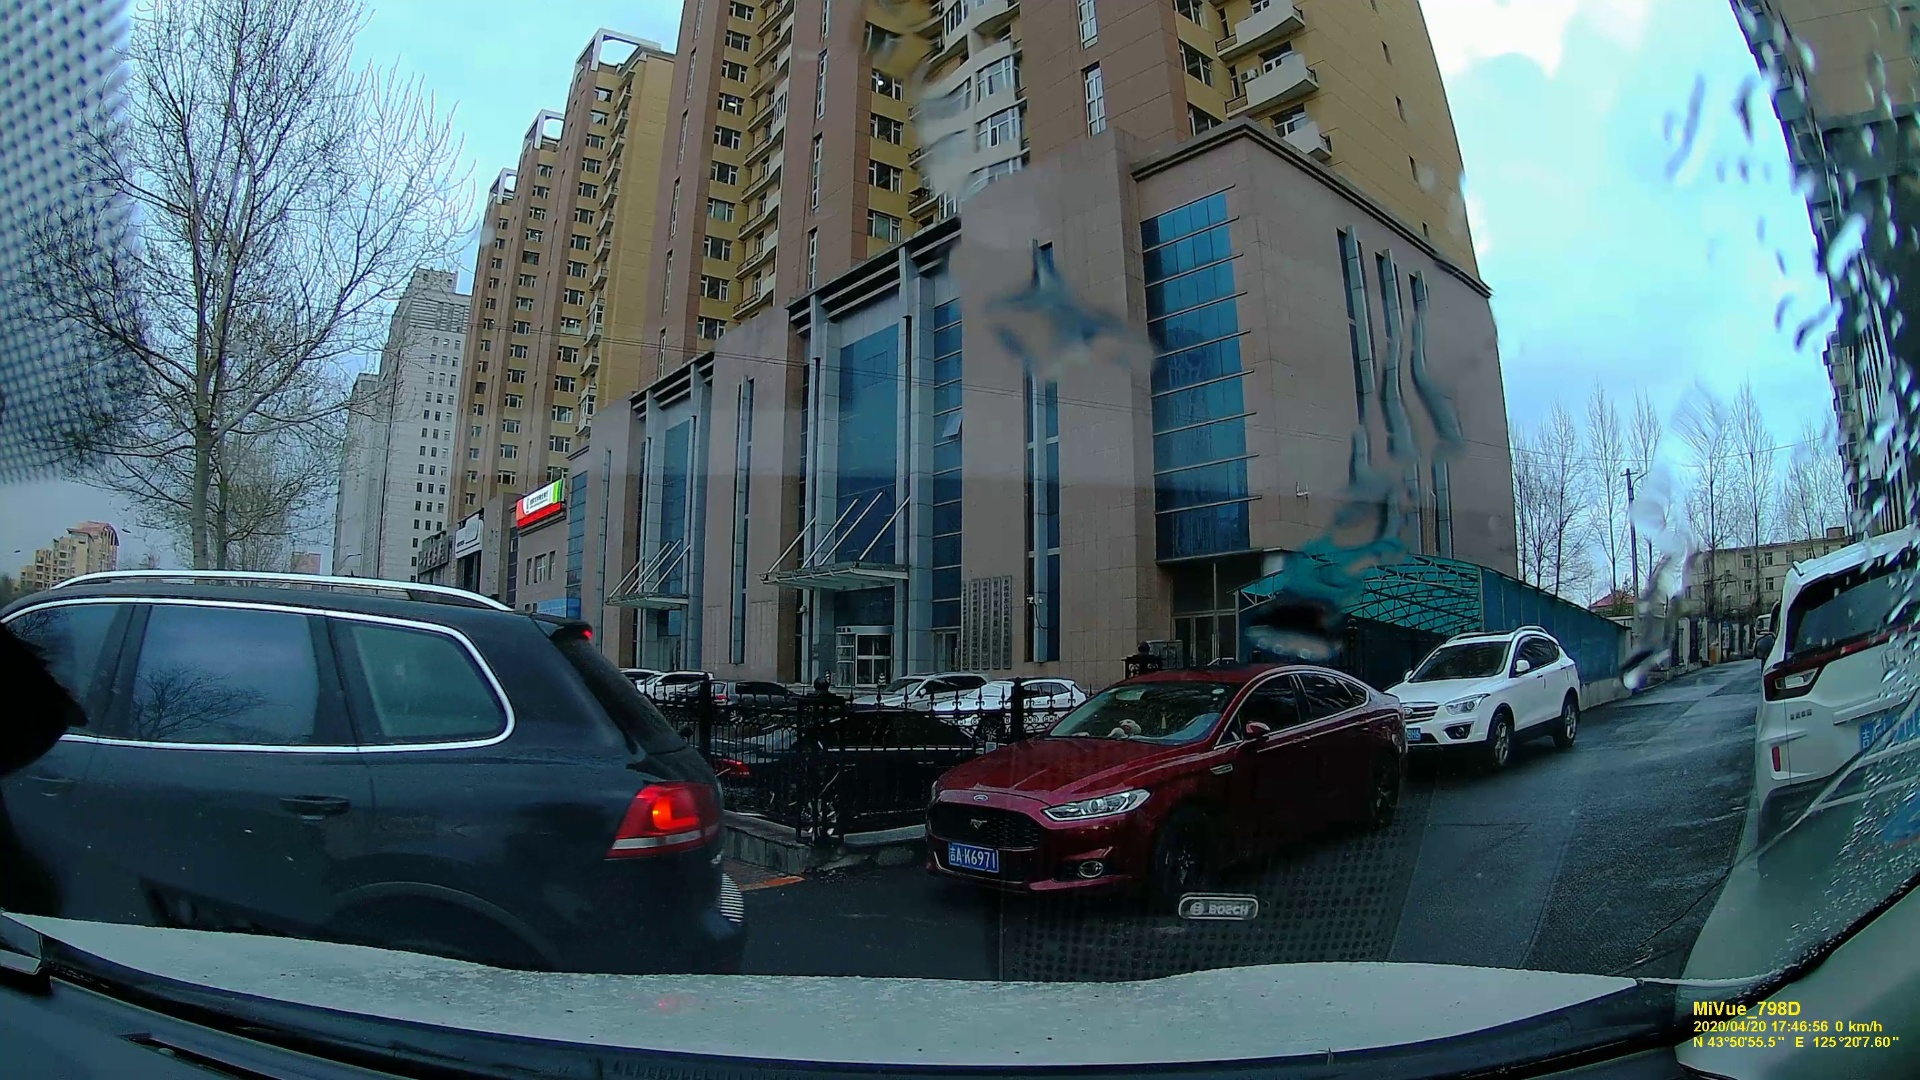vehicle: (4, 580, 756, 963), (916, 650, 1419, 916), (1391, 622, 1589, 760)
